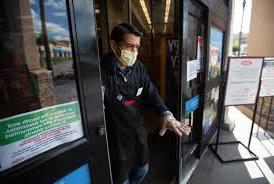with_mask: (118, 39, 140, 69)
